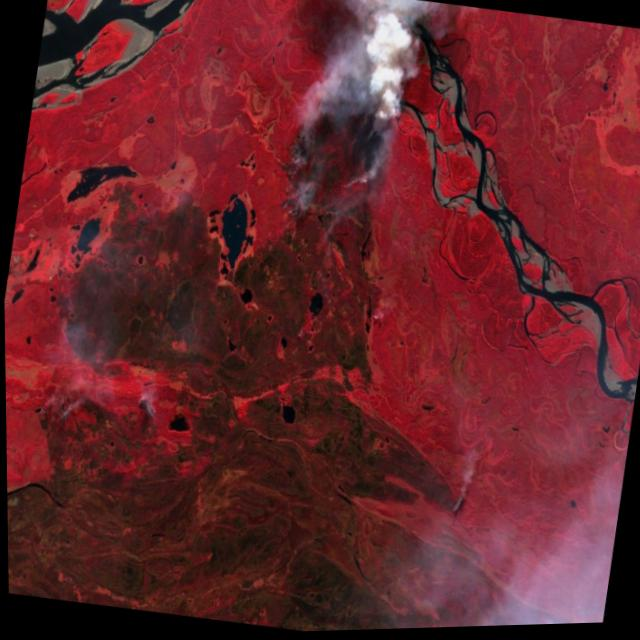fire: (265, 9, 423, 254), (25, 365, 81, 436), (436, 478, 480, 532), (128, 380, 162, 432)
